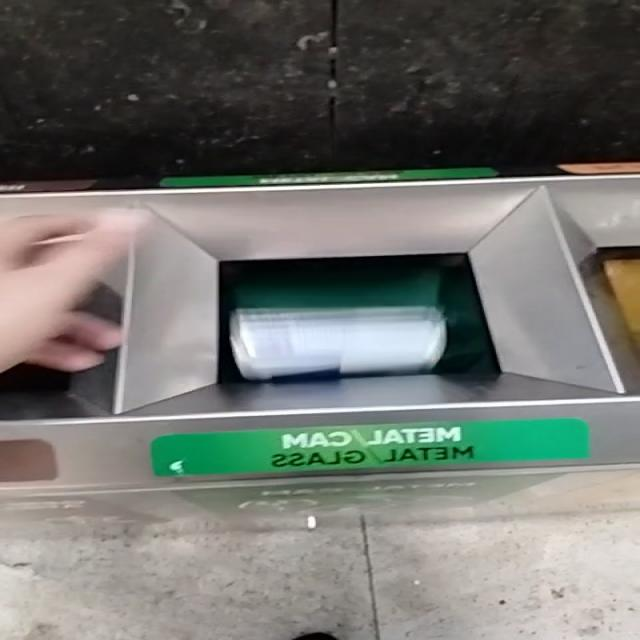bin: (0, 176, 639, 492)
metal: (229, 307, 447, 380)
